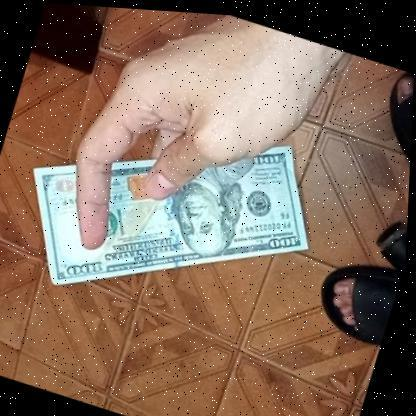one_hundred-front: (3, 68, 337, 354)
